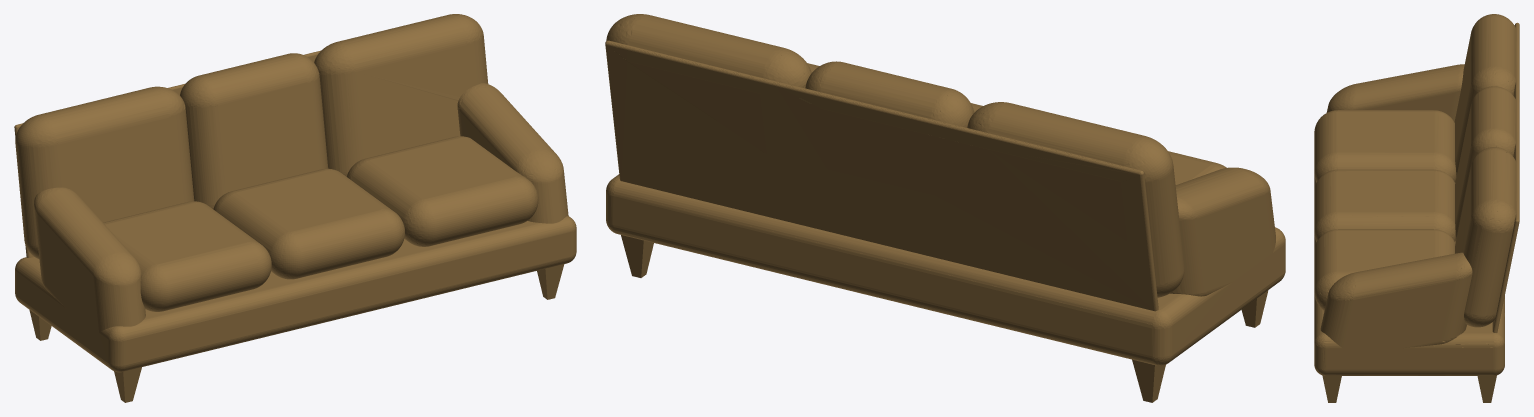
File: couch_1.glb
The picture shows the model from 3 angles, left to right: view 1: azimuth 30°, elevation 25°; view 2: azimuth 150°, elevation 25°; view 3: azimuth 270°, elevation 25°; orthographic projection. The views are drawn at different scales.
Parts seen in each view (by area): view 1: Mesh_Mesh_head_geo.001_lambert2SG.001; view 2: Mesh_Mesh_head_geo.001_lambert2SG.001; view 3: Mesh_Mesh_head_geo.001_lambert2SG.001.
Boxes of the visible parts, bbox=[...] form: Mesh_Mesh_head_geo.001_lambert2SG.001: bbox=[14, 14, 576, 402]; Mesh_Mesh_head_geo.001_lambert2SG.001: bbox=[605, 14, 1285, 402]; Mesh_Mesh_head_geo.001_lambert2SG.001: bbox=[1314, 14, 1519, 402].
Size of the model in its own units: 12 by 5.34 by 5.
